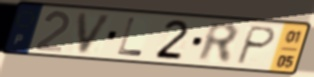2: (33, 9, 72, 54), (153, 19, 192, 63)
L: (115, 16, 145, 58)
P: (233, 25, 278, 67)
R: (196, 20, 241, 66)
V: (76, 11, 116, 56)
